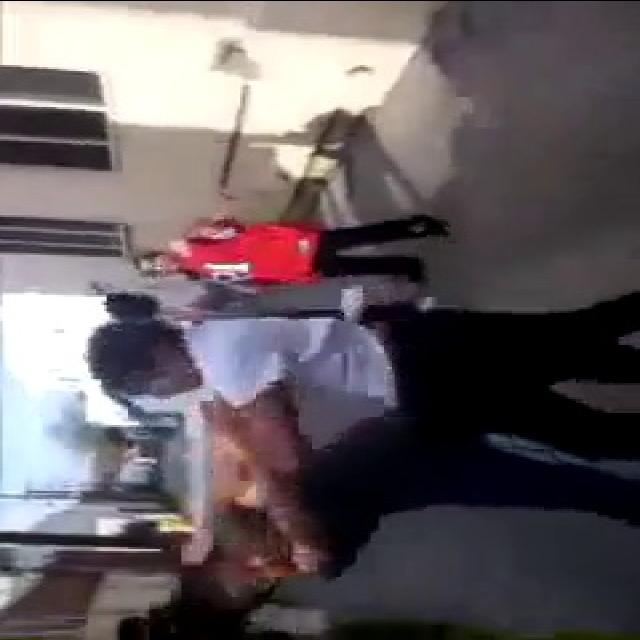NonViolence: (128, 212, 432, 288)
Violence: (85, 292, 640, 628)
